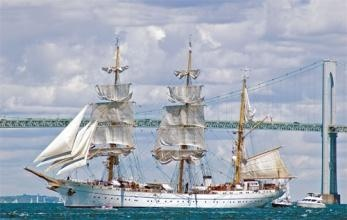fanchuan: (24, 27, 285, 209)
otherboat: (294, 191, 329, 209)
